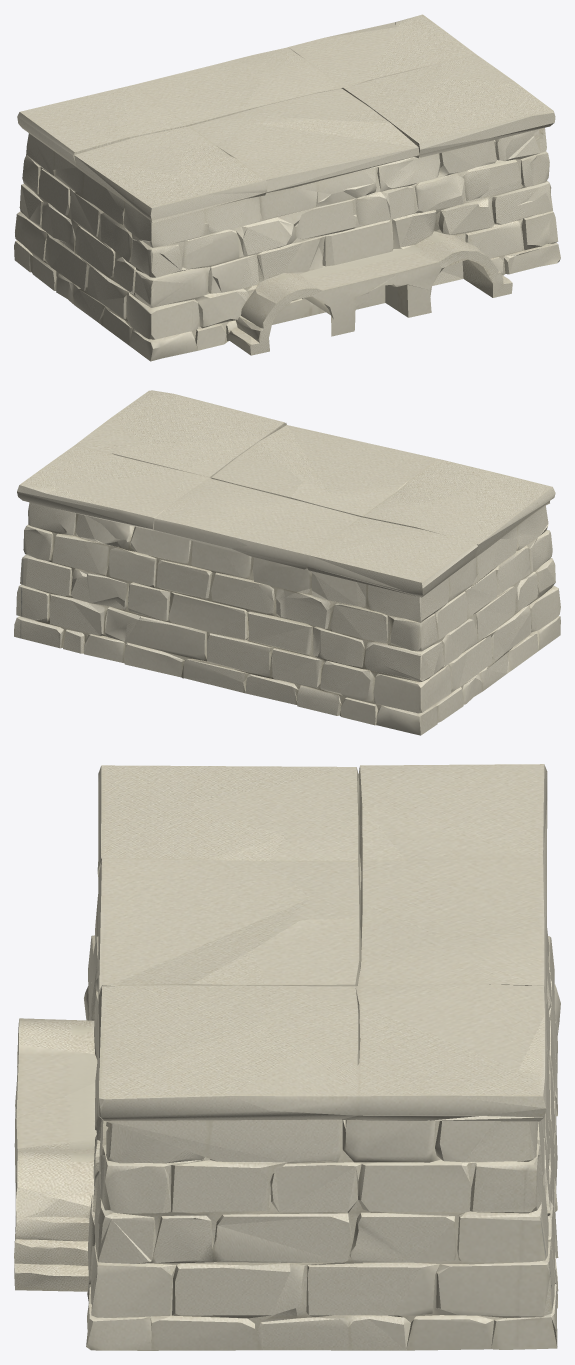
Rendered from bermuda-limestone-seawall.glb.
3 views of the same model, one above another, from view 1: azimuth 30°, elevation 25°; view 2: azimuth 150°, elevation 25°; view 3: azimuth 270°, elevation 25° (orthographic). The views are drawn at different scales.
Parts seen in each view (by area): view 1: output_unwrapped; view 2: output_unwrapped; view 3: output_unwrapped.
Part boxes in pixels (left/top/right/bottom): output_unwrapped: left=14, top=14, right=560, bottom=361; output_unwrapped: left=14, top=390, right=560, bottom=735; output_unwrapped: left=14, top=764, right=560, bottom=1350.
Size of the model in its own units: 1.9 by 0.6719 by 1.3.
1 material, 1 textured.
